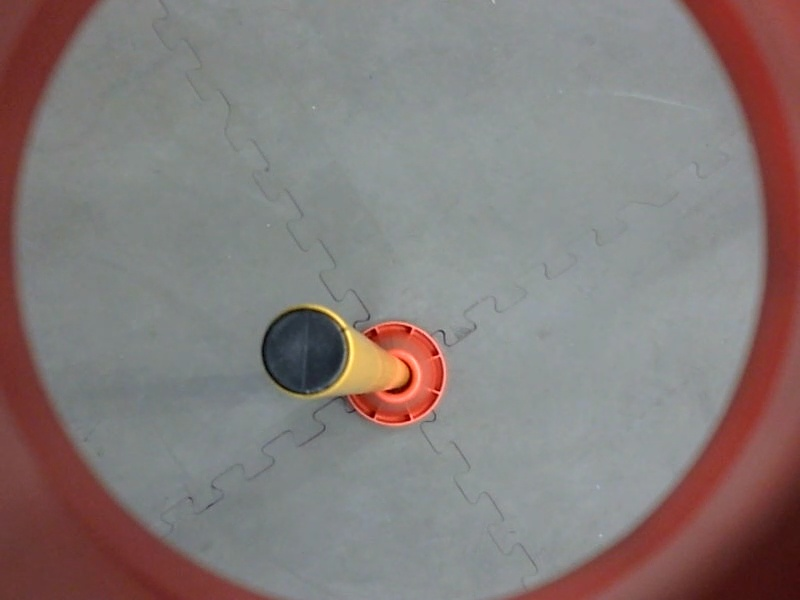tip: (253, 295, 361, 406)
